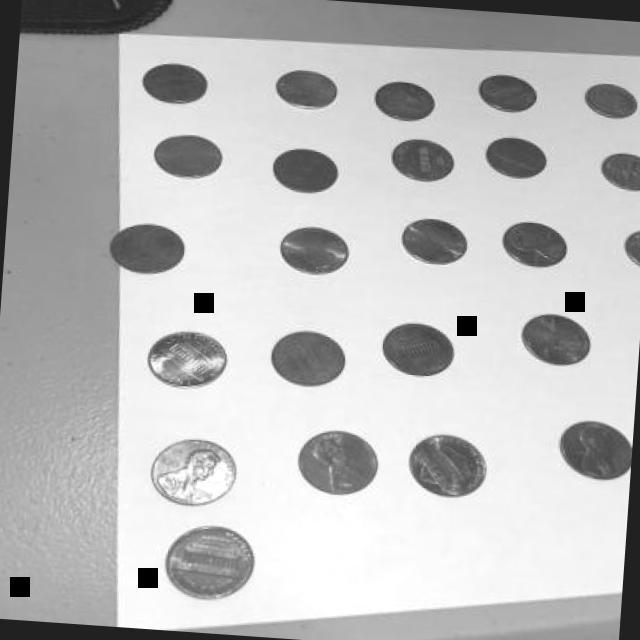Nickel: (575, 79, 640, 122), (595, 148, 640, 197), (620, 225, 640, 269)
Penny: (160, 520, 259, 602), (144, 434, 238, 506), (295, 426, 381, 498), (144, 326, 232, 392), (406, 431, 490, 500), (262, 320, 346, 387), (552, 417, 634, 481), (105, 217, 192, 277), (379, 318, 460, 378), (275, 221, 356, 280), (516, 312, 596, 369), (144, 130, 228, 184), (265, 142, 342, 194), (268, 66, 346, 116), (395, 215, 468, 268), (497, 217, 569, 268), (141, 59, 214, 109), (368, 78, 442, 126), (476, 71, 540, 117), (484, 134, 548, 180), (388, 137, 450, 183)
